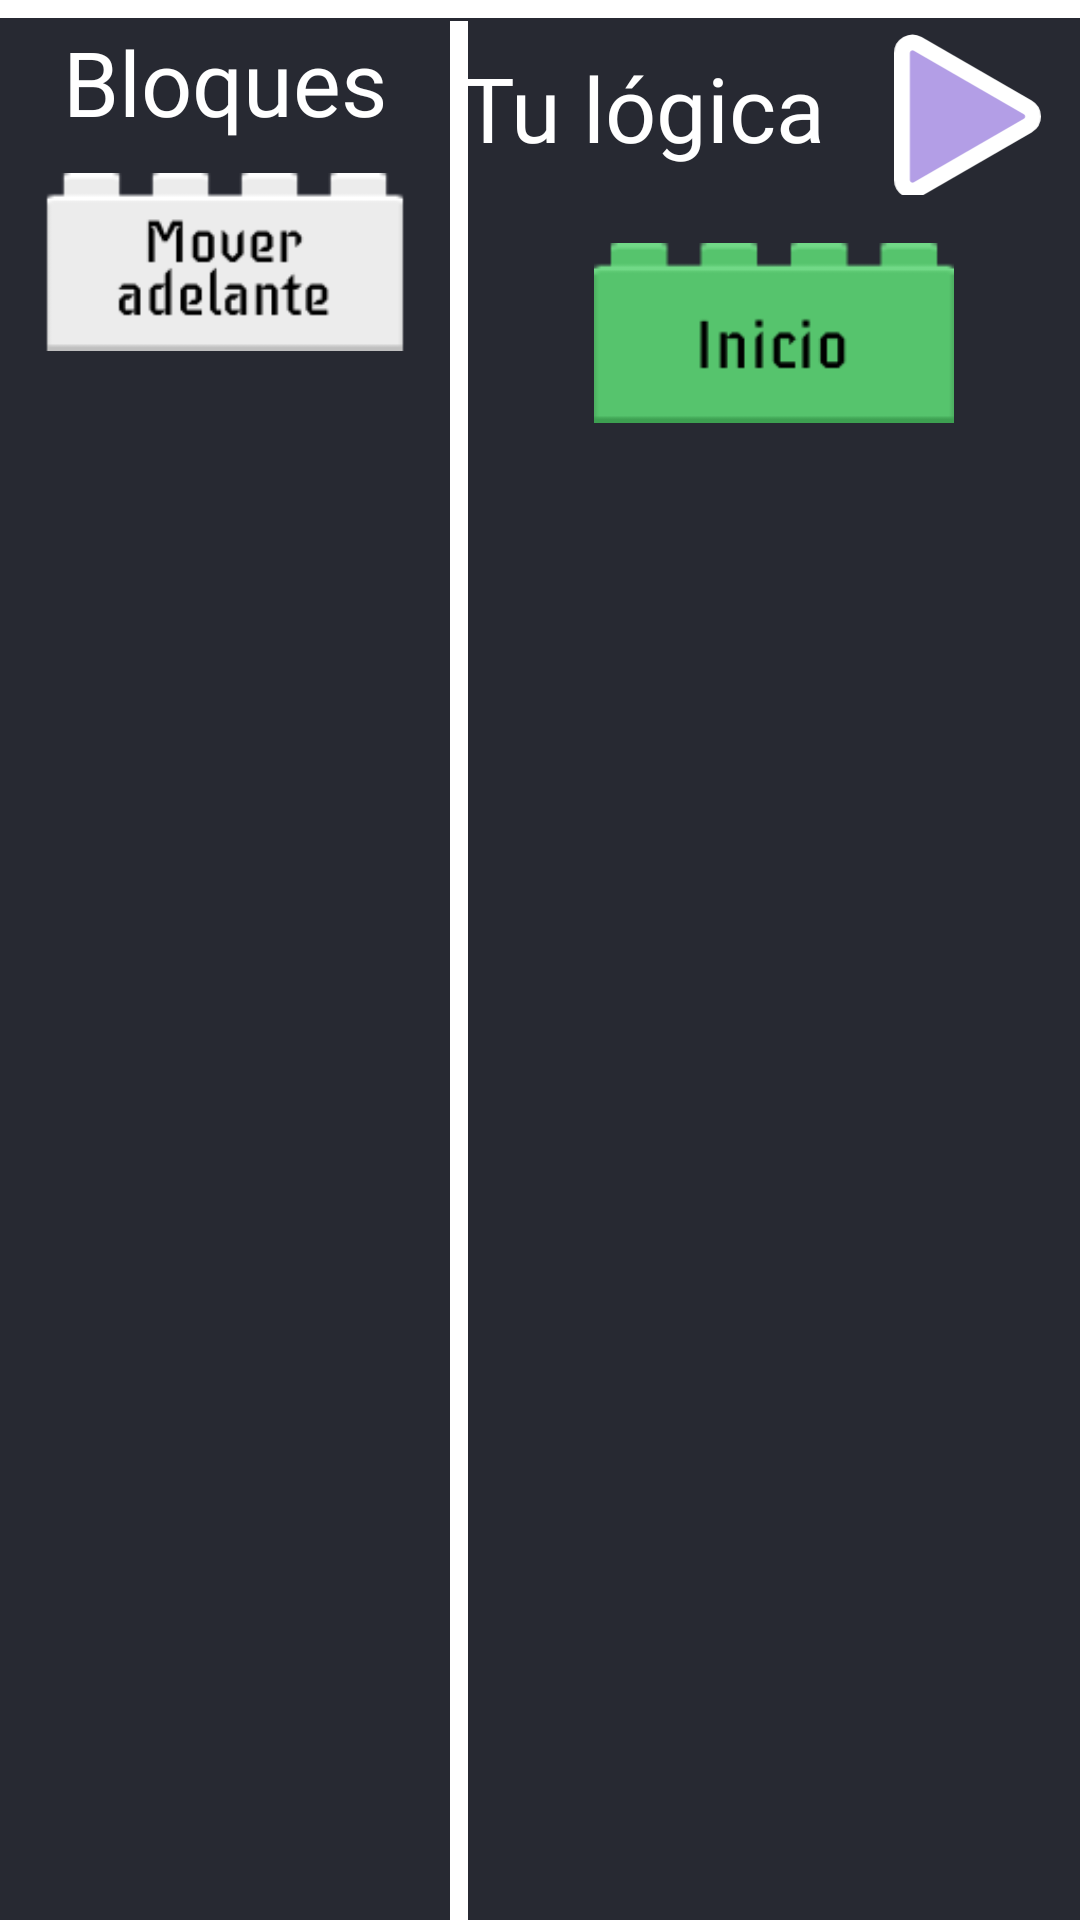

Named icons in this screenshot (1080w x 1920h) and their bounding boxes, (x1, y1, x2, y2):
Boton para iniciar la animación: (894, 34, 1041, 195)
